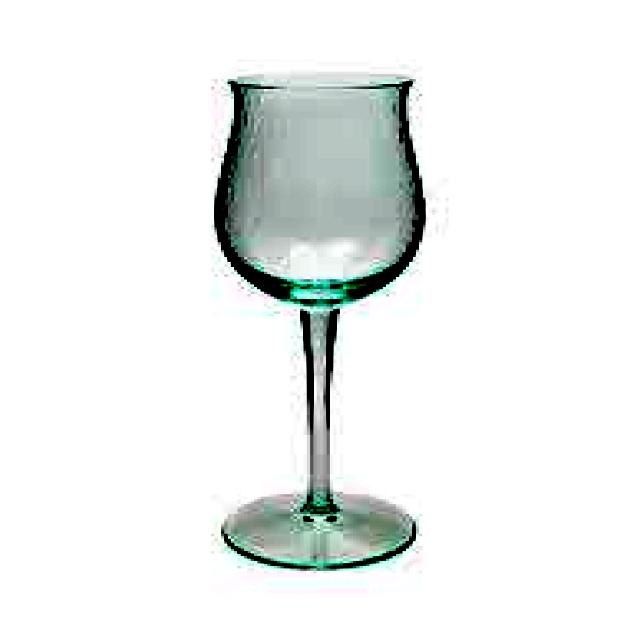Glass: (207, 73, 429, 576)
